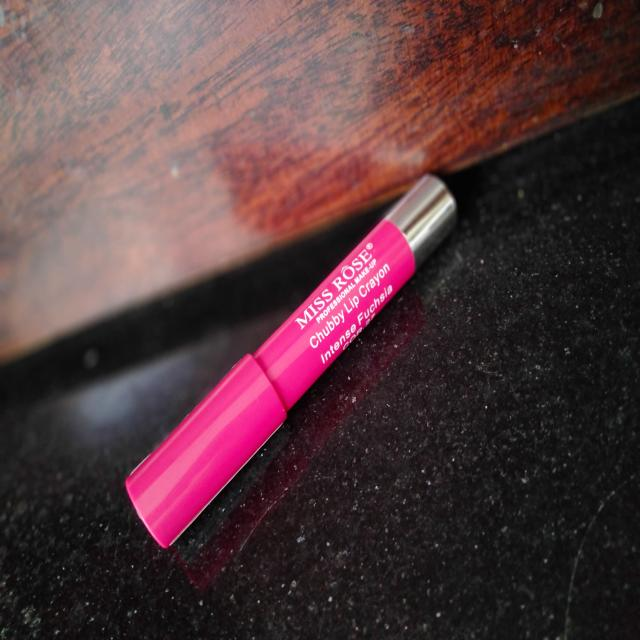lip liner: (114, 158, 472, 561)
